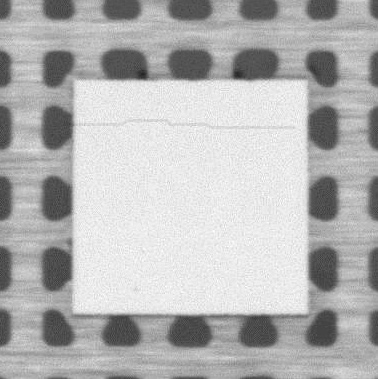DIE_CRACK: (72, 118, 295, 132)
